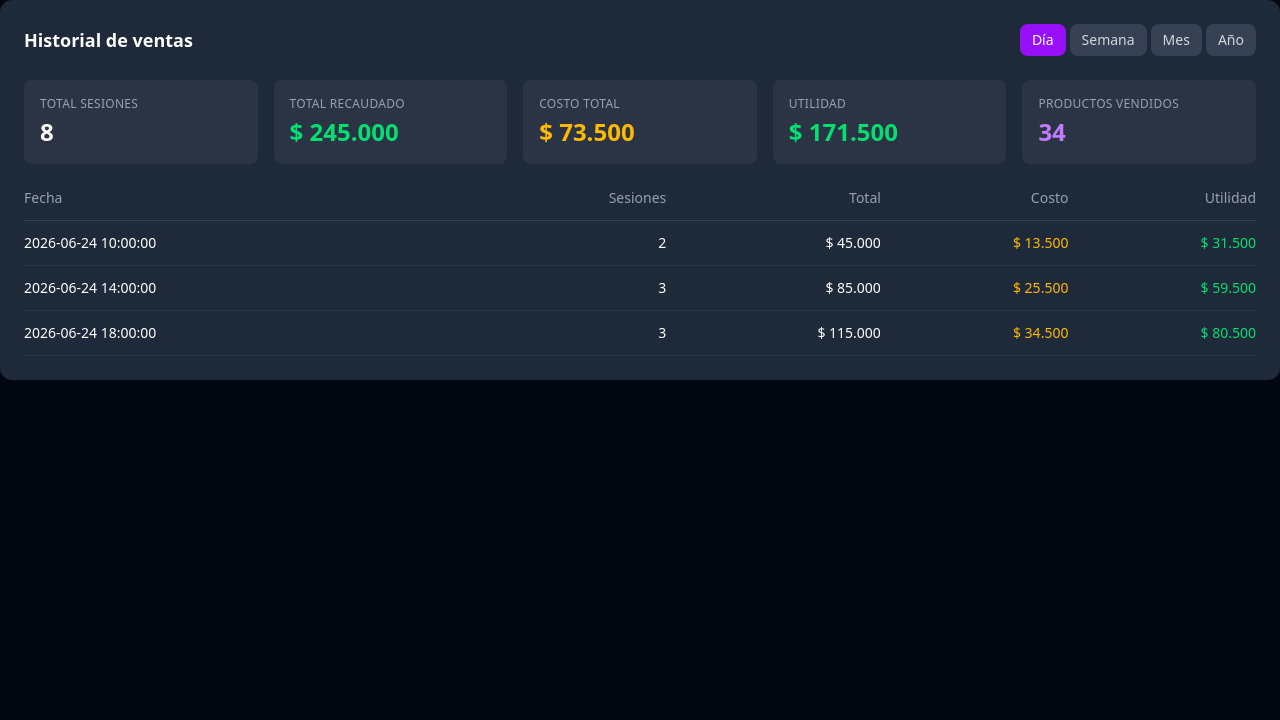
SalesHistorySection › renders month and year data correctly
This screenshot has width=1280, height=720.
Expected: the text "Total sesiones" is shown, [40,95,138,112]
# Click "Mes"
Click the button "Mes" at (1176, 40), box [1151,24,1202,56]
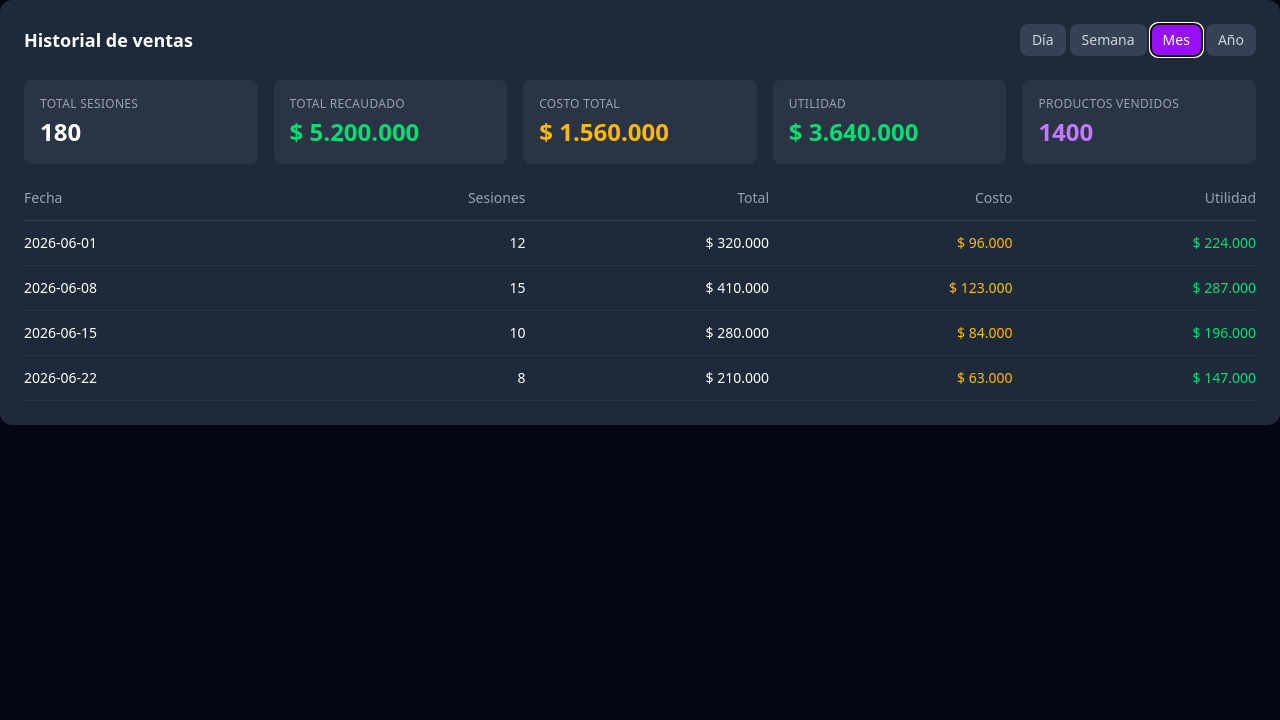
Expected: the text "$ 5.200.000" is shown, [290,115,419,148]
Expected: the text "180" is shown, [40,115,81,148]
Expected: the text "1400" is shown, [1038,115,1093,148]
# Click "Año"
Click the button "Año" at (1231, 40), box [1206,24,1256,56]
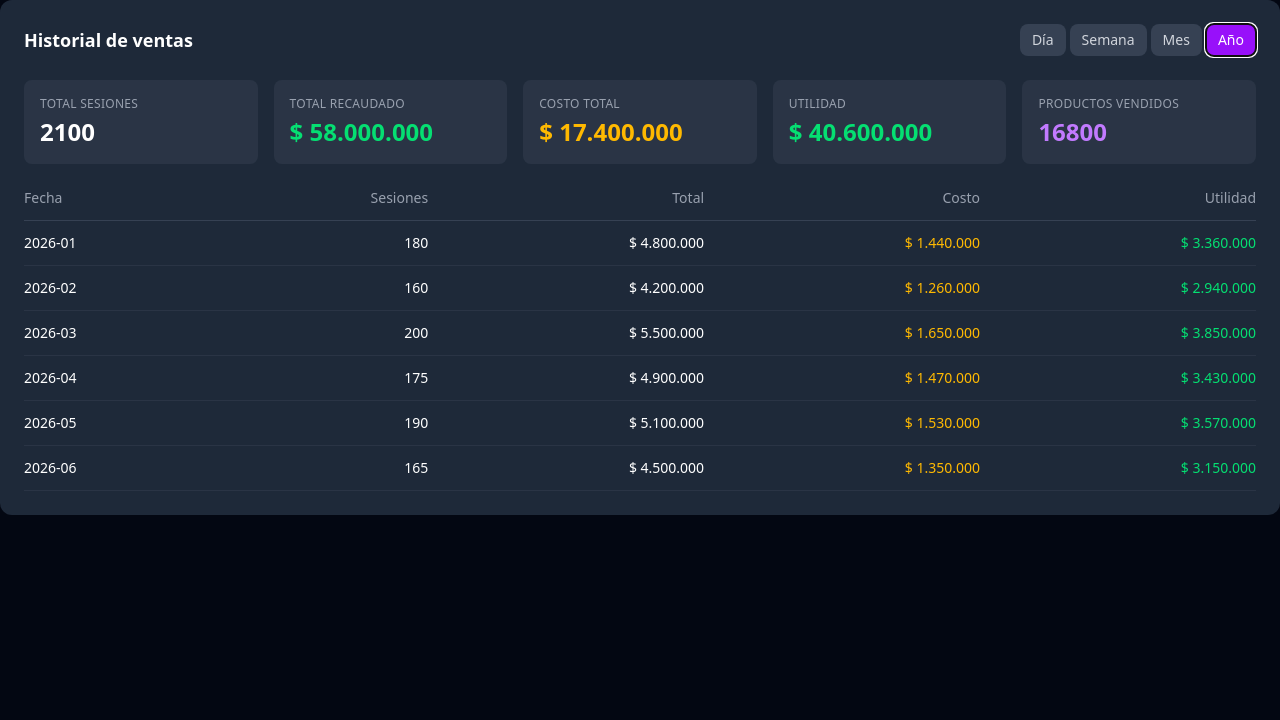
Expected: the text "$ 58.000.000" is shown, [290,115,433,148]
Expected: the text "2100" is shown, [40,115,95,148]
Expected: the text "16800" is shown, [1038,115,1107,148]
